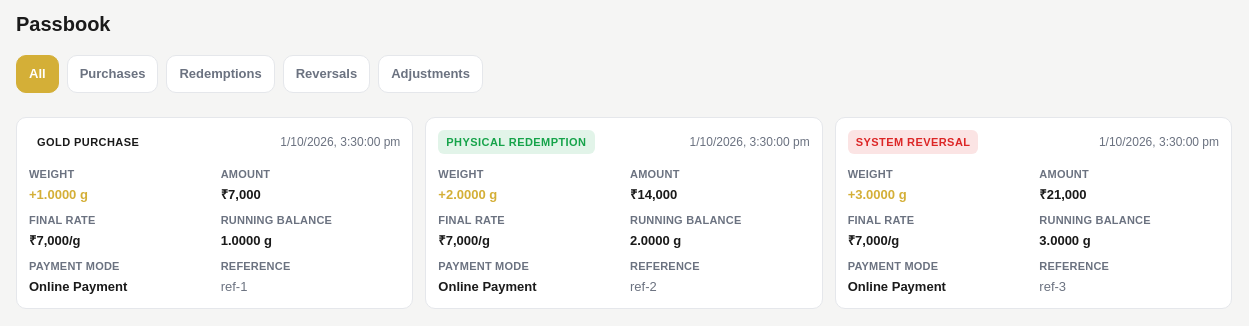
Test case: Passbook › filters › says so when no loaded entry matches the filter
Check: the text "Gold Purchase" is shown, box [37, 136, 139, 148]
Step 1. Click the button "Adjustments" → [431, 74], box [378, 55, 483, 92]
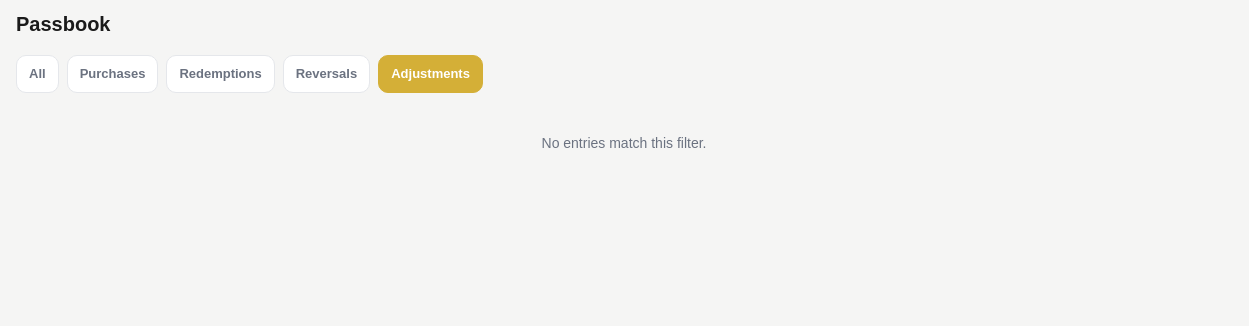
Check: the text "No entries match this filter." is shown, box [542, 134, 706, 150]
